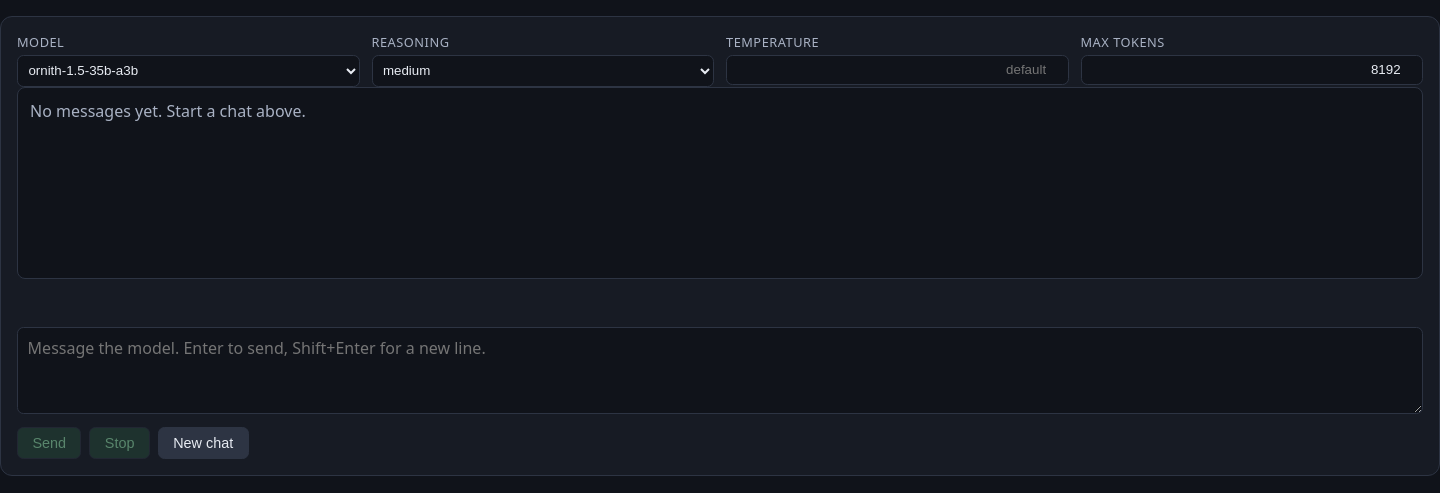
Scenario: ChatPlayground › accumulates streamed content and reports the finish reason
Replace the text in the text box with test id "prompt-input" with "Hi" at (720, 370), box [17, 327, 1423, 414]
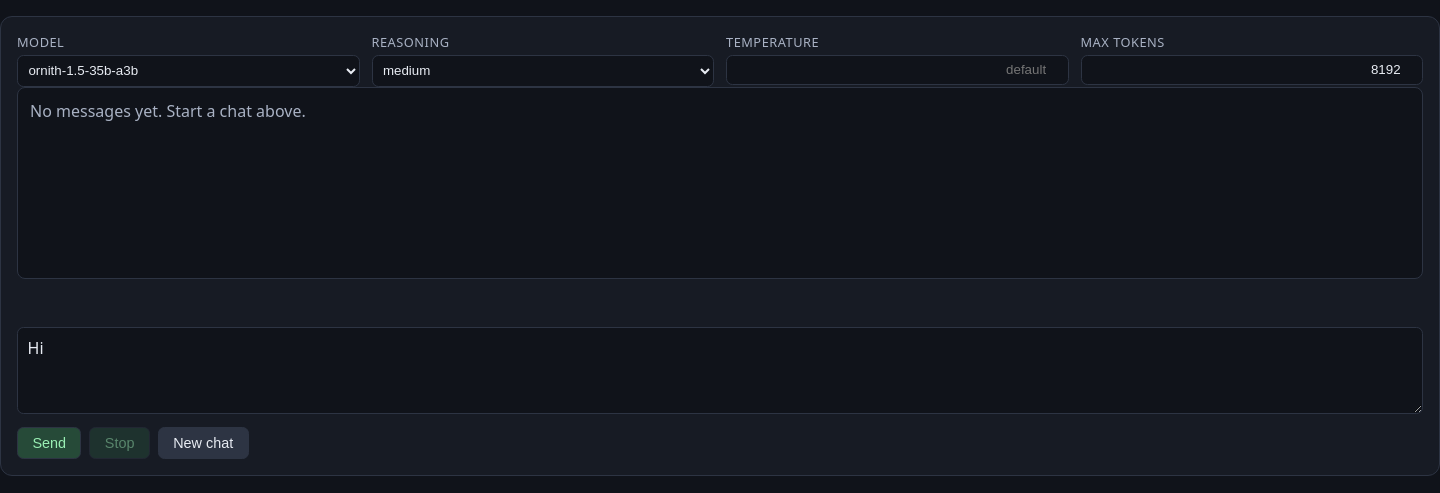
Click the button with test id "send-button" at (49, 443), box [17, 427, 81, 459]
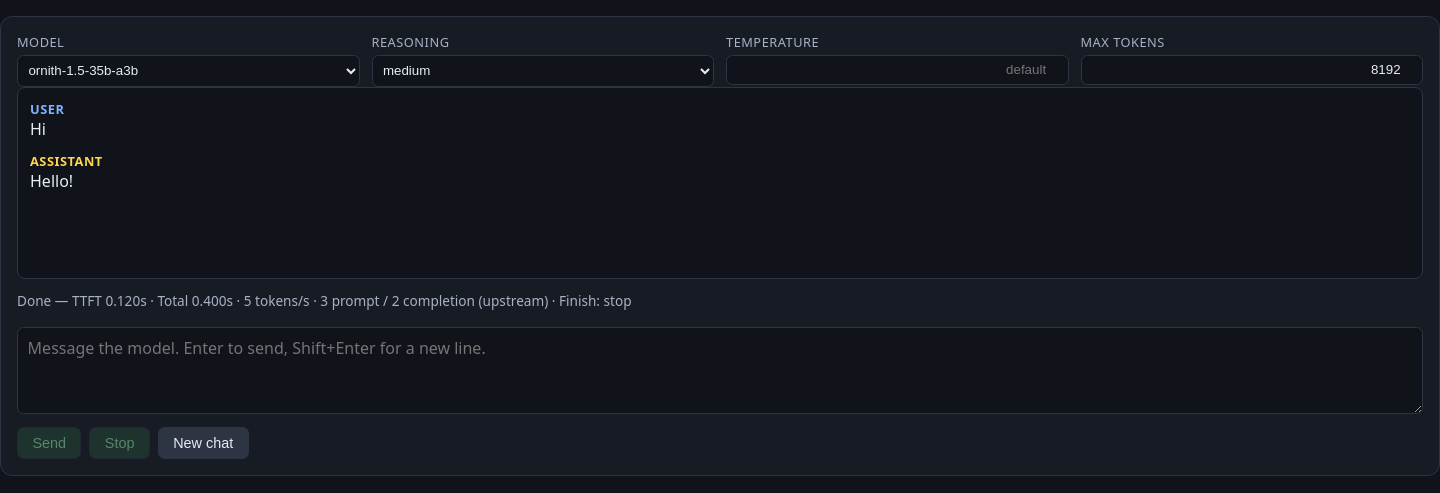
Expected: the text "Hello!" is shown, [30, 170, 73, 192]
Expected: the text with test id "status-indicator" shows "Finish: stop", [17, 291, 632, 310]
Expected: the text with test id "status-indicator" shows "5 tokens/s", [17, 291, 632, 310]
